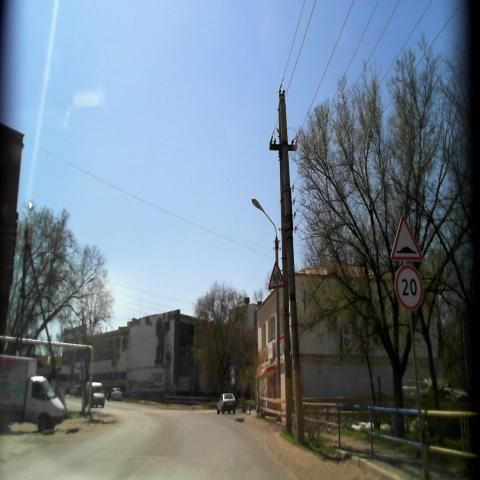3_24: (394, 263, 425, 310)
